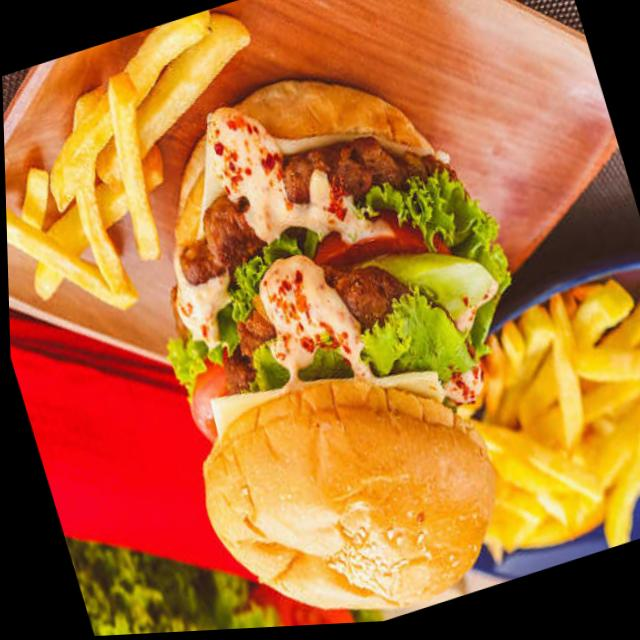burger: (87, 37, 567, 636)
